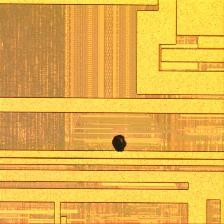PARTICLE: (112, 136, 128, 153)
